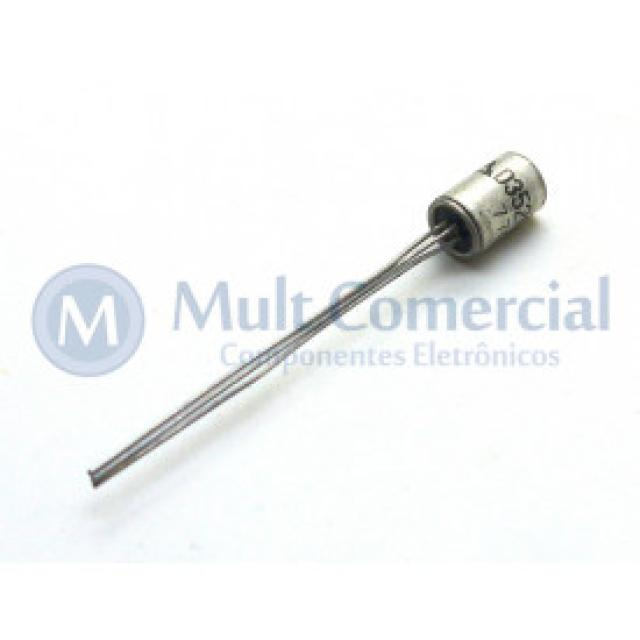Transistor: (75, 149, 548, 494)
